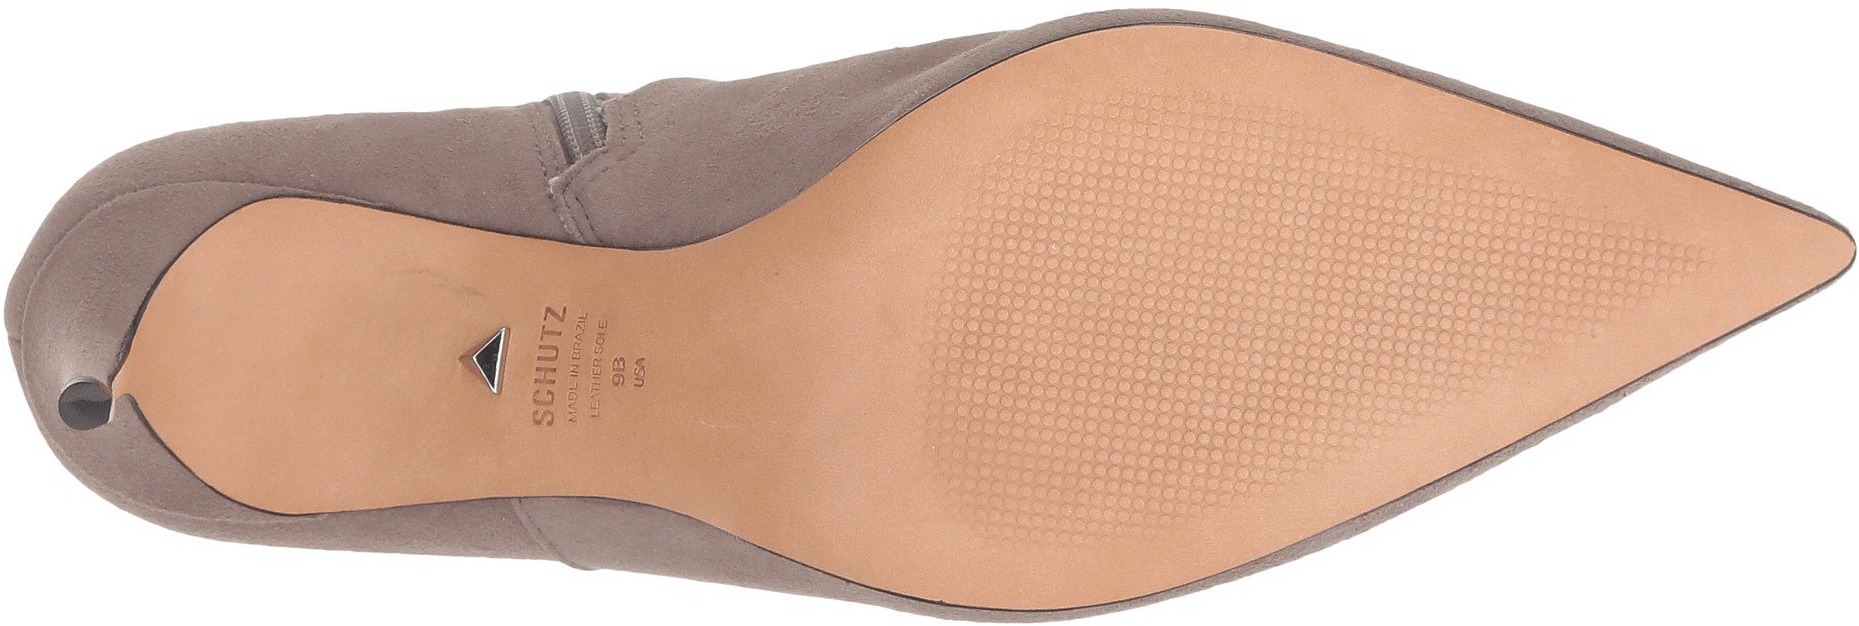circle: (1348, 155, 1565, 365), (518, 287, 678, 448), (47, 370, 121, 447), (55, 372, 119, 439)
exclude: (106, 0, 879, 625), (4, 6, 173, 621)
other: (965, 151, 1344, 500)
text: (518, 287, 678, 448)
triangle: (437, 322, 511, 392)
